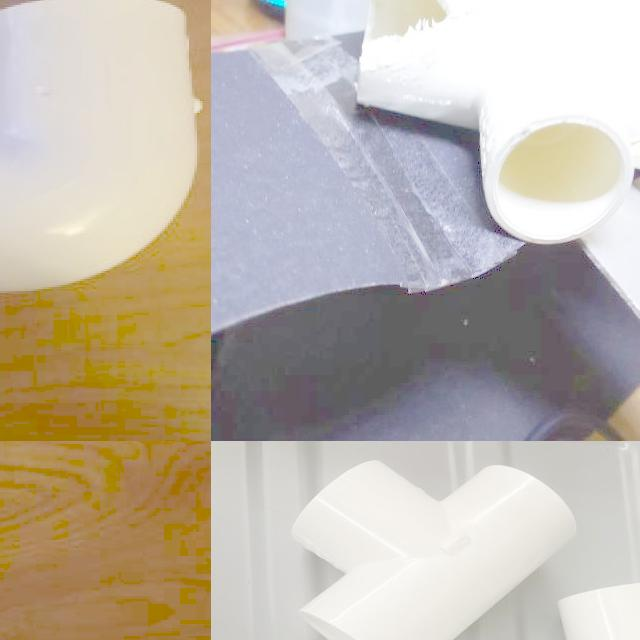L Joint: (0, 0, 203, 295)
T Joint: (291, 461, 576, 640)
